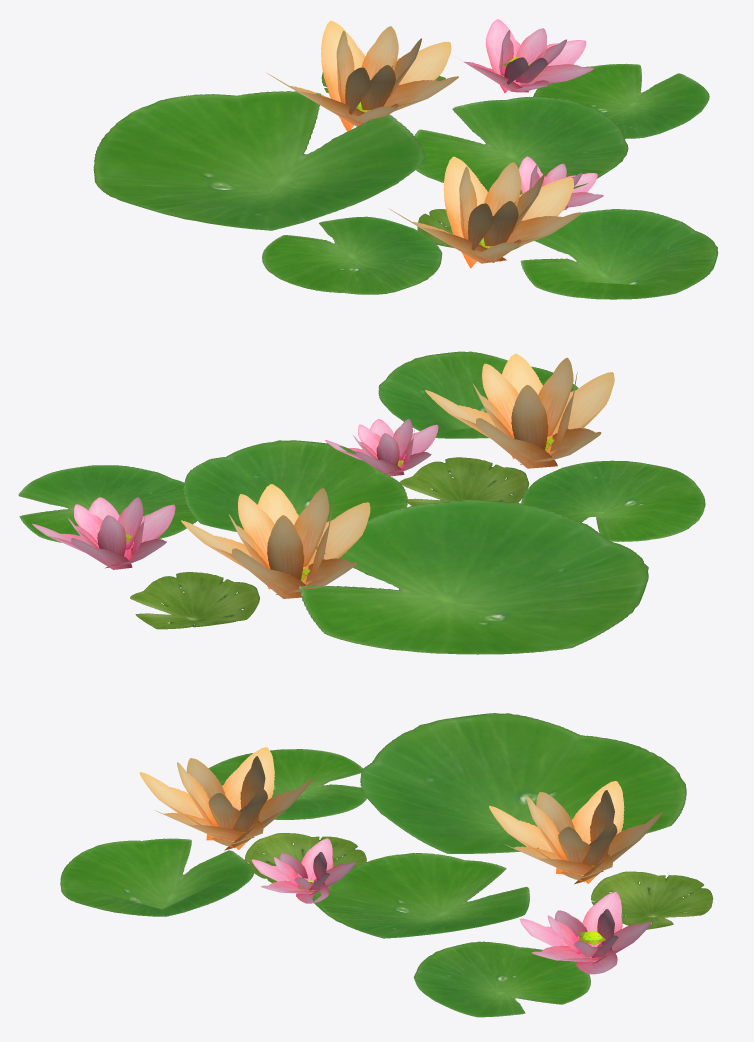
The model's file is Scene_cao_012.FBX.
3 views of the same model, one above another, from view 1: azimuth 30°, elevation 25°; view 2: azimuth 150°, elevation 25°; view 3: azimuth 270°, elevation 25° (orthographic). The views are drawn at different scales.
Parts seen in each view (by area): view 1: Scene_cao_012; view 2: Scene_cao_012; view 3: Scene_cao_012.
Boxes of the visible parts, box(x1,y1,x2,y2) form: Scene_cao_012: box(93, 19, 718, 299); Scene_cao_012: box(18, 351, 705, 654); Scene_cao_012: box(60, 713, 713, 1017).
Size of the model in its own units: 62.02 by 9.88 by 60.82.
